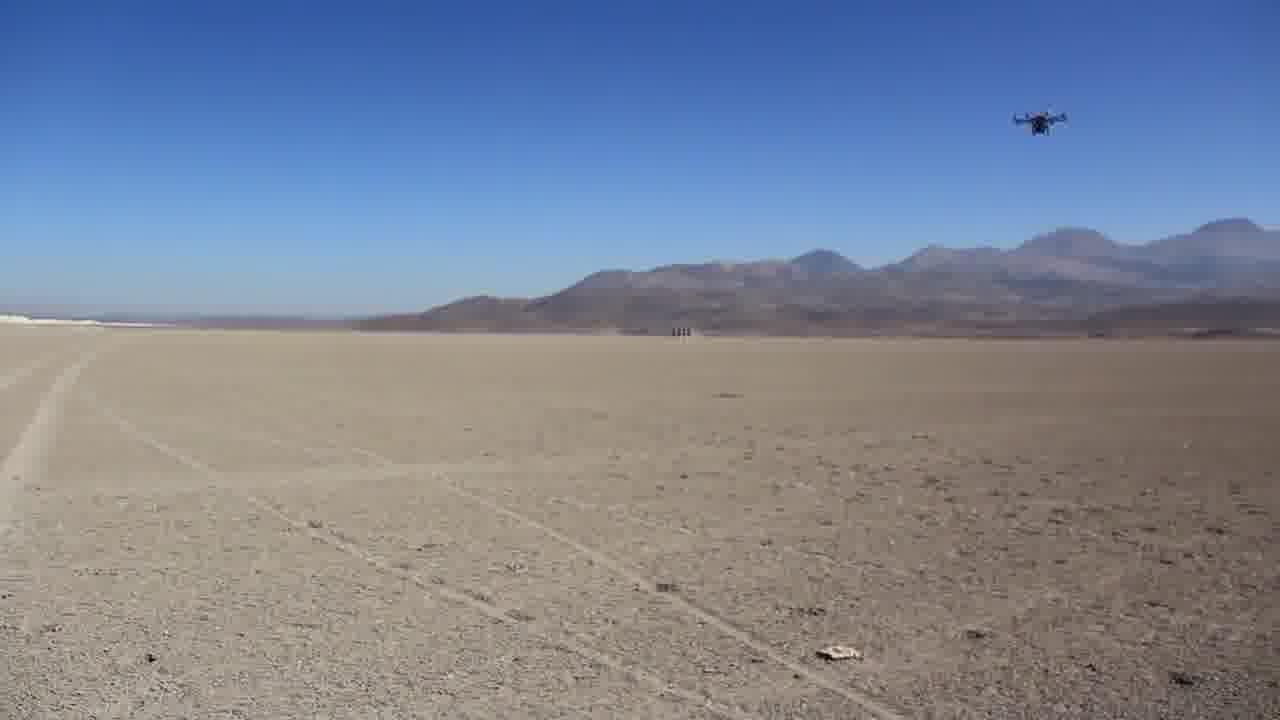Drone: (1000, 101, 1080, 143)
